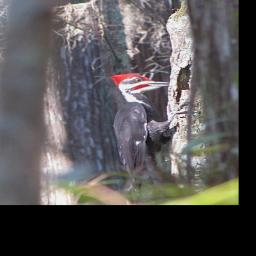Woodpecker: (107, 73, 201, 198)
